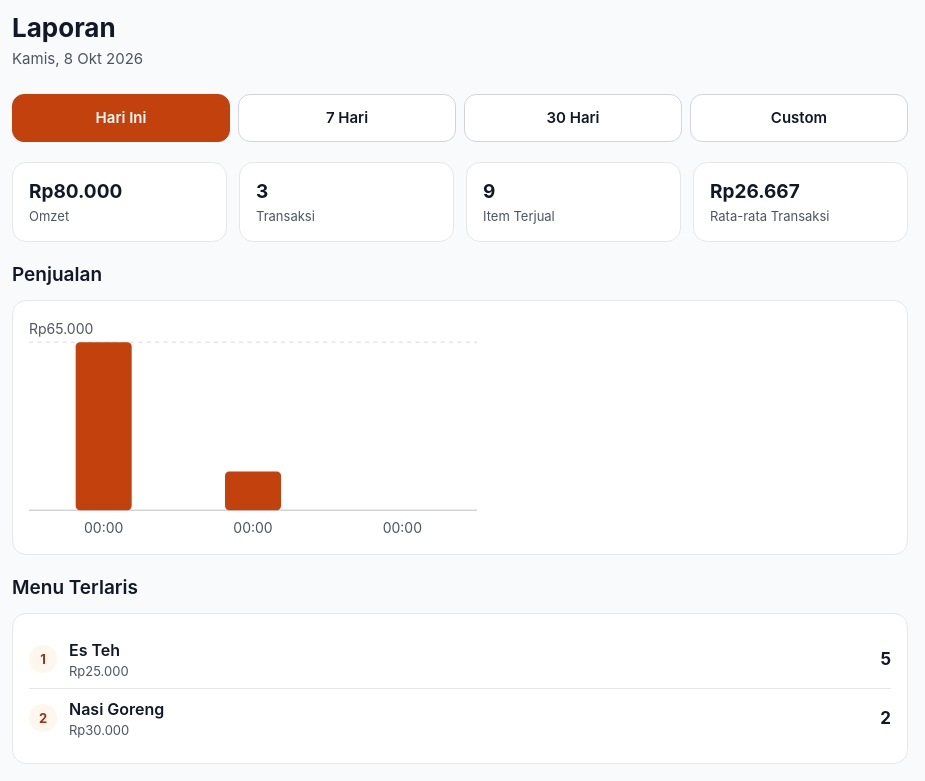
Test case: ReportDashboard › Custom range › treats a cleared date as incomplete, not as an error response
The width and height of the screenshot is (925, 781).
expect the element "Omzet" is shown: met, box [12,162,227,242]
Click the button "Custom" at [799, 118], box [690,94,908,142]
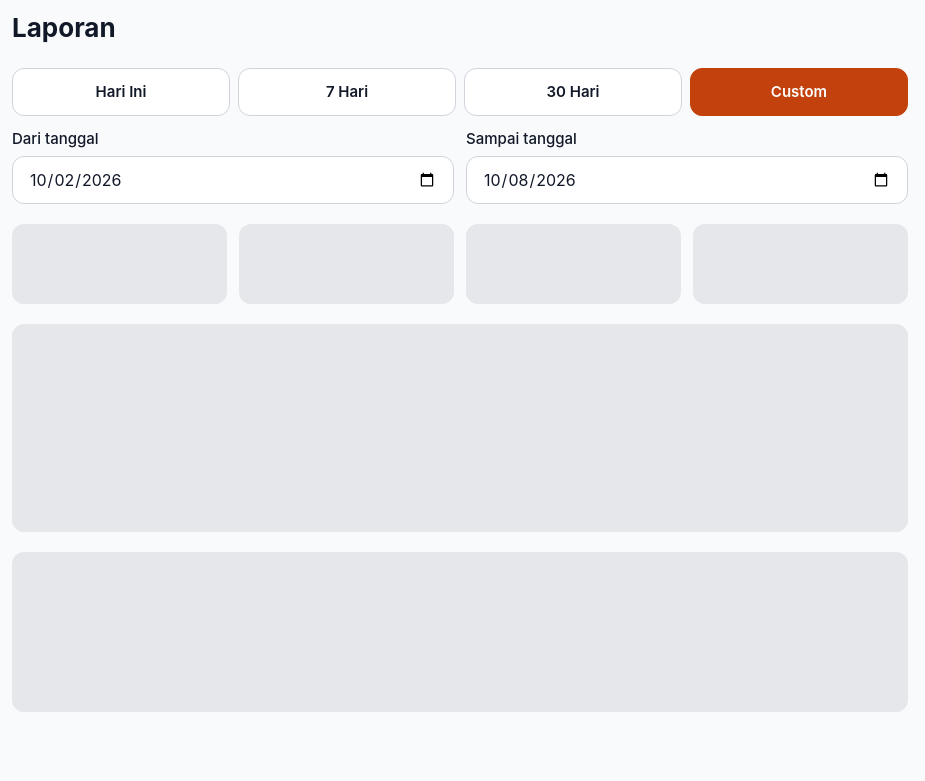
Clear the date field labelled "Dari tanggal" at [233, 180], box [12,156,454,204]
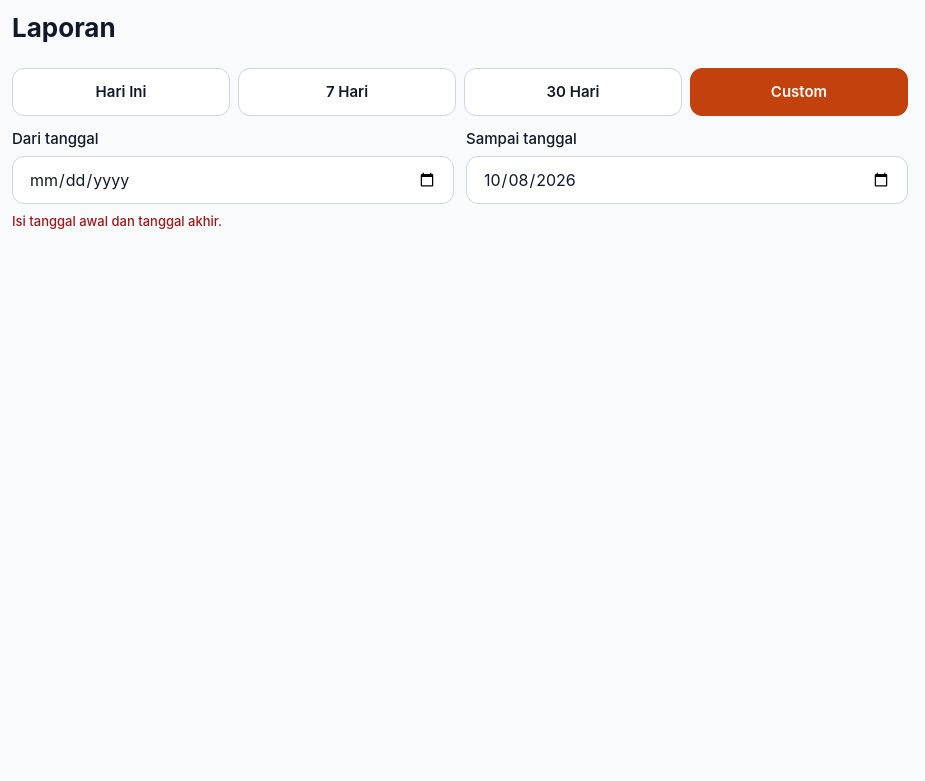
expect the message shows "Isi tanggal": met, box [12,213,222,229]
